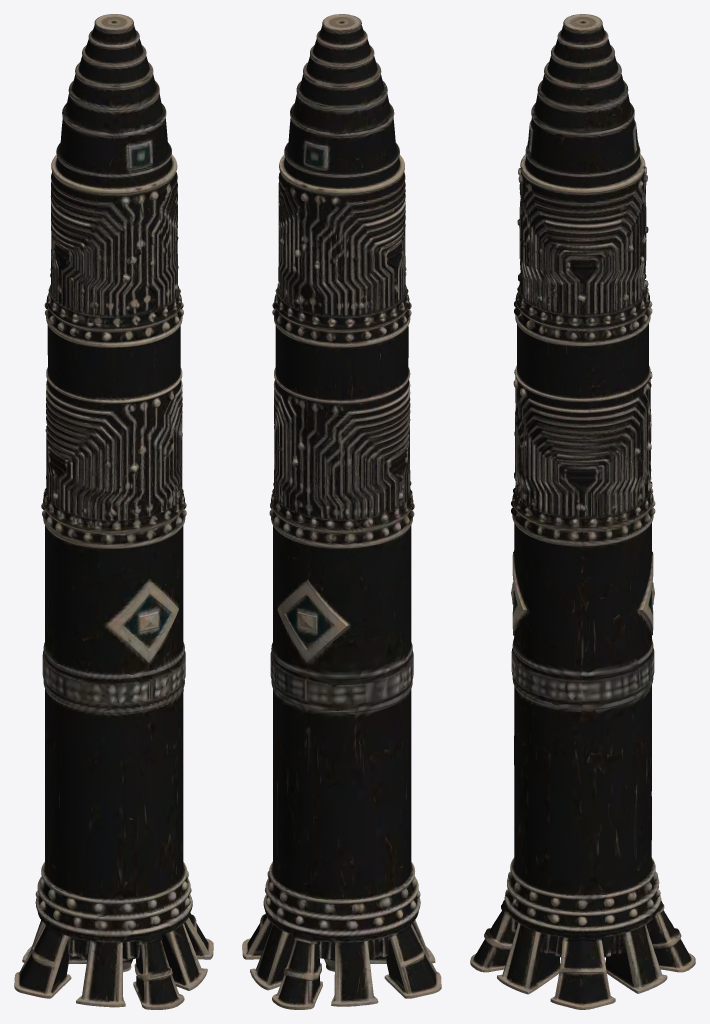
The model's file is uplink.glb.
3 views of the same model, side by side, from view 1: azimuth 30°, elevation 25°; view 2: azimuth 150°, elevation 25°; view 3: azimuth 270°, elevation 25° (orthographic).
Size of the model in its own units: 0.4103 by 1.9 by 0.4131.
Materials: 1 (1 with a texture image).
